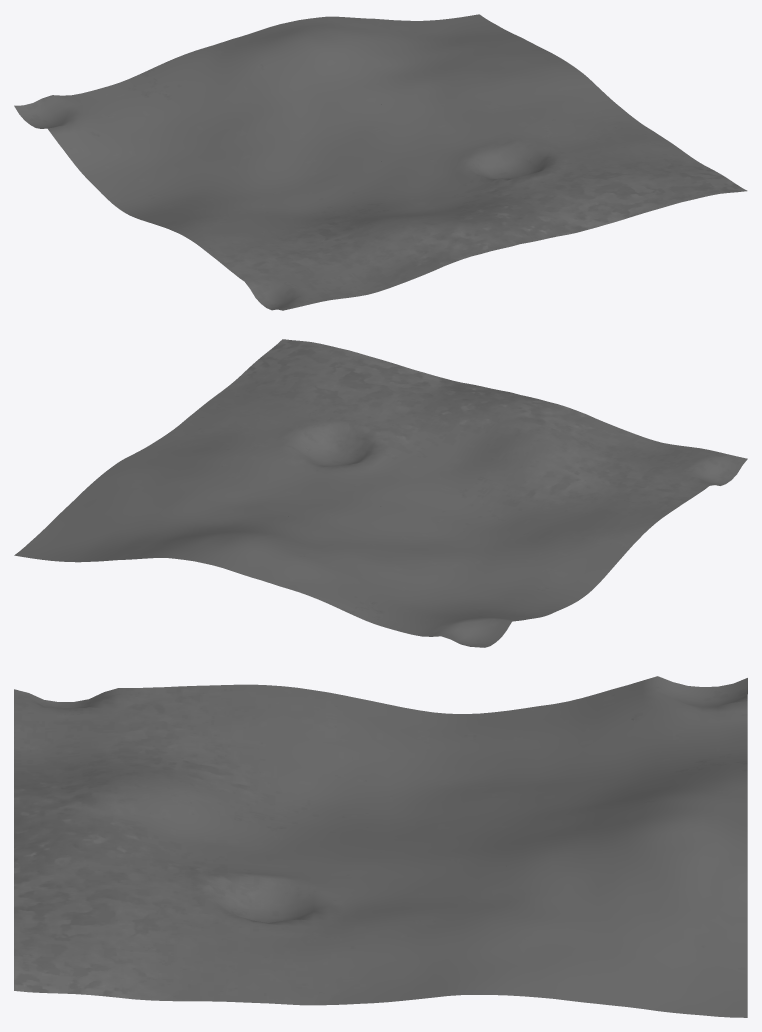
File: moon_surface-2.glb
3 renders of one model, top to bottom at view 1: azimuth 30°, elevation 25°; view 2: azimuth 150°, elevation 25°; view 3: azimuth 270°, elevation 25°, orthographic. The views are drawn at different scales.
Parts seen in each view (by area): view 1: moon_surface; view 2: moon_surface; view 3: moon_surface.
Boxes of the visible parts, <box> form: moon_surface: <box>14,14,747,310</box>; moon_surface: <box>14,339,747,647</box>; moon_surface: <box>14,676,747,1017</box>.
Bounding box in the file's own units: 5.01 × 0.5 × 5.
1 material, 1 textured.
